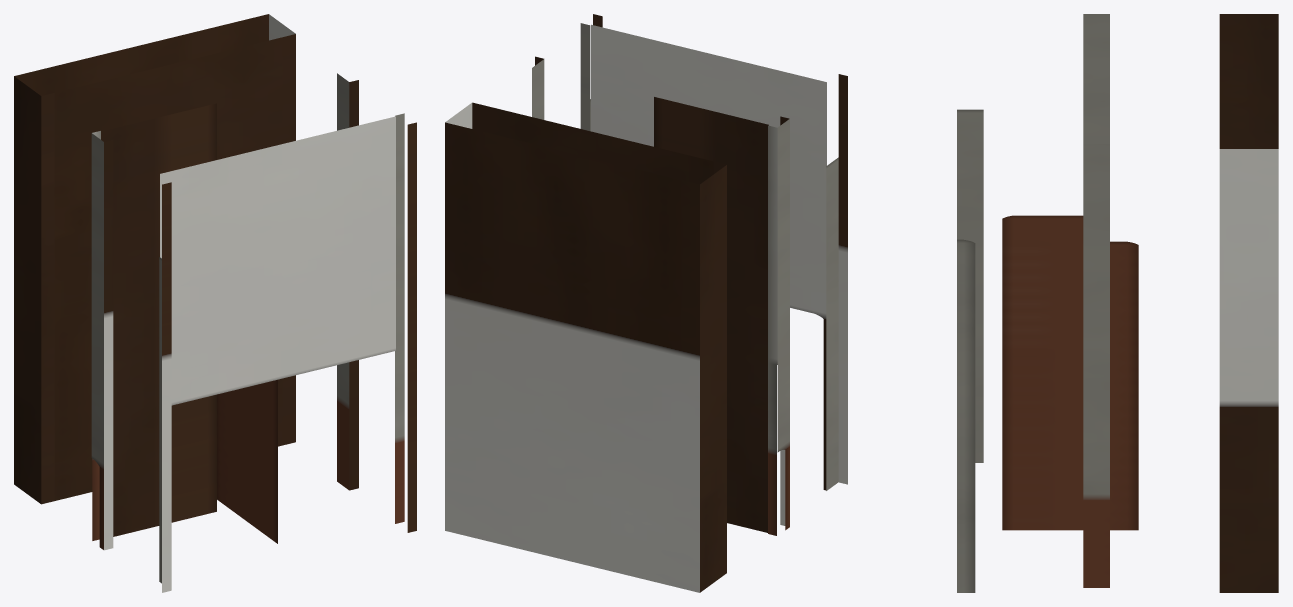
The picture shows the model from 3 angles, left to right: view 1: azimuth 30°, elevation 25°; view 2: azimuth 150°, elevation 25°; view 3: azimuth 270°, elevation 25°; orthographic projection. The views are drawn at different scales.
Bounding box in the file's own units: 0.8101 × 1.24 × 1.02.
